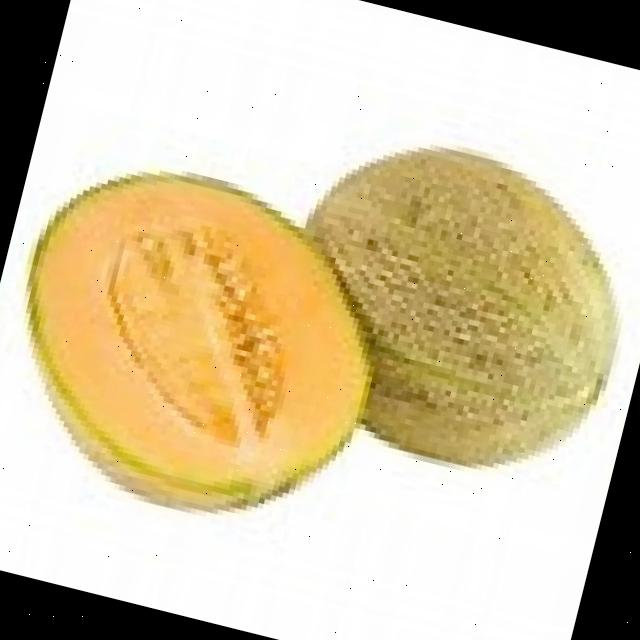Hami Melon: (0, 142, 411, 546), (260, 112, 640, 495)
